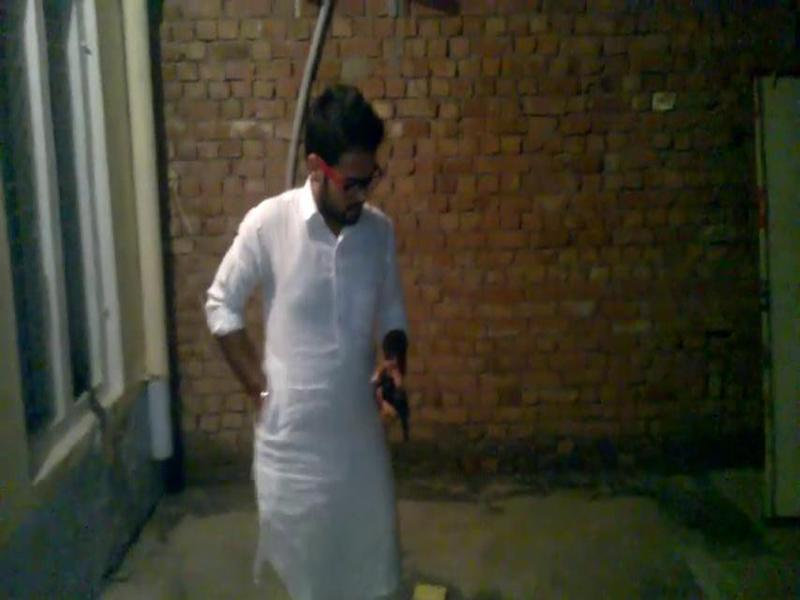Revolver: (361, 369, 422, 460)
